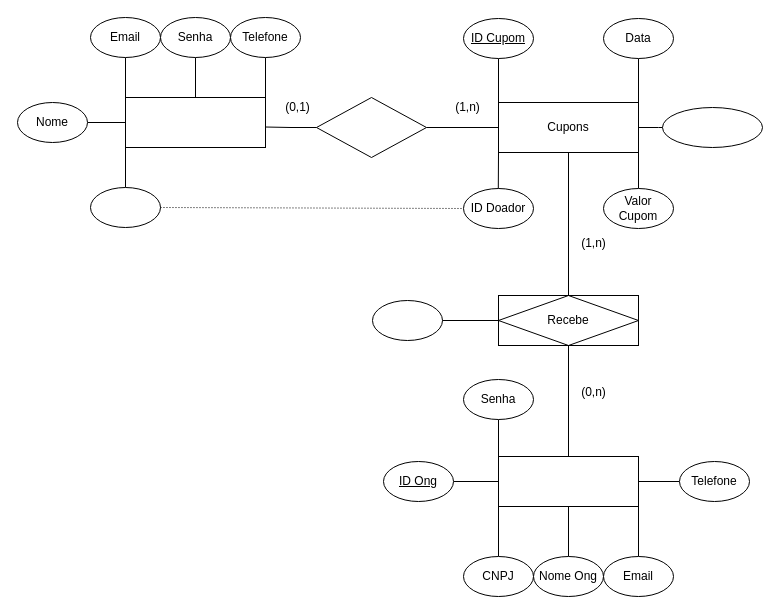
The diagram is 780 pixels wide and 614 high, and some of its shapes have lost their labels. Each missing label, with the box of its shape:
Doa: (316, 96, 426, 158)
Documento: (372, 300, 442, 340)
ID Usuário: (90, 186, 160, 228)
Ong Beneficiada: (662, 106, 762, 148)
Ongs: (498, 456, 638, 506)
Usuários: (124, 96, 266, 148)
